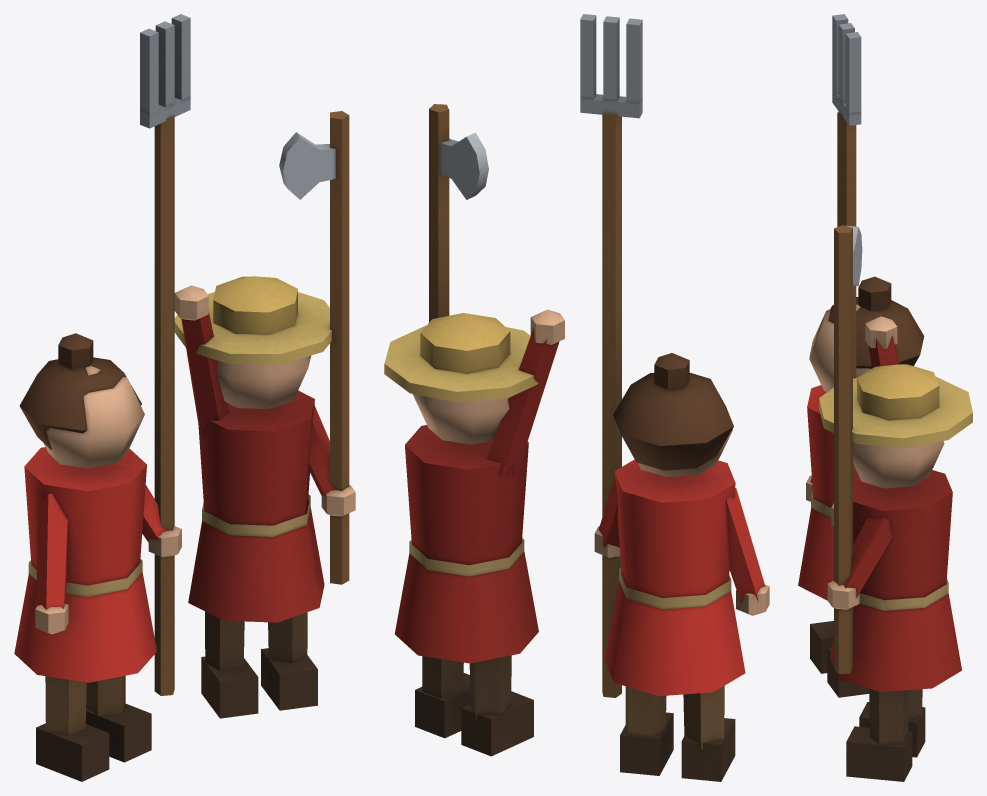
Rendered from sentry_dl1_red.glb.
3 views of the same model, side by side, from view 1: azimuth 30°, elevation 25°; view 2: azimuth 150°, elevation 25°; view 3: azimuth 270°, elevation 25° (orthographic). The views are drawn at different scales.
Visible parts, largest first — view 1: sentry_dl1_red; view 2: sentry_dl1_red; view 3: sentry_dl1_red.
Part boxes in pixels (bbox=[...]): sentry_dl1_red: bbox=[14, 14, 355, 781]; sentry_dl1_red: bbox=[384, 14, 769, 781]; sentry_dl1_red: bbox=[798, 14, 972, 781].
Size of the model in its own units: 0.3242 by 0.6736 by 0.1571.
1 material, 1 textured.
